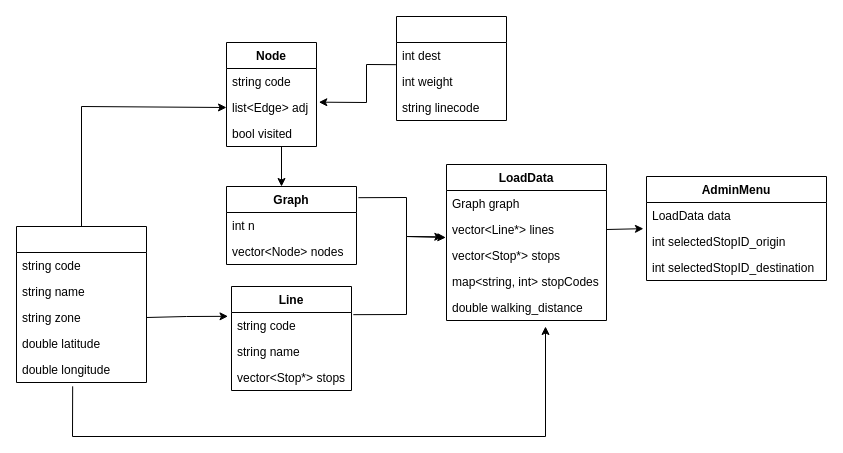
Image size: 843x453. Some labels were removed from this diagram. Here are the shapes that lost their labels. From the top down, the box of each, then its label:
(396, 16, 506, 120): Edge
(16, 226, 146, 382): Stop
